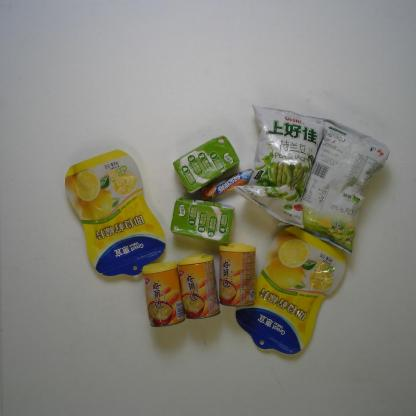Candy: (199, 168, 256, 200)
Canned Food: (142, 261, 186, 327), (177, 254, 221, 319), (218, 242, 257, 307)
Dried Fruit: (235, 226, 346, 354), (65, 149, 166, 276)
Milk: (173, 134, 240, 195), (170, 196, 235, 244)
Puffed Food: (278, 119, 390, 256), (232, 104, 328, 229)
